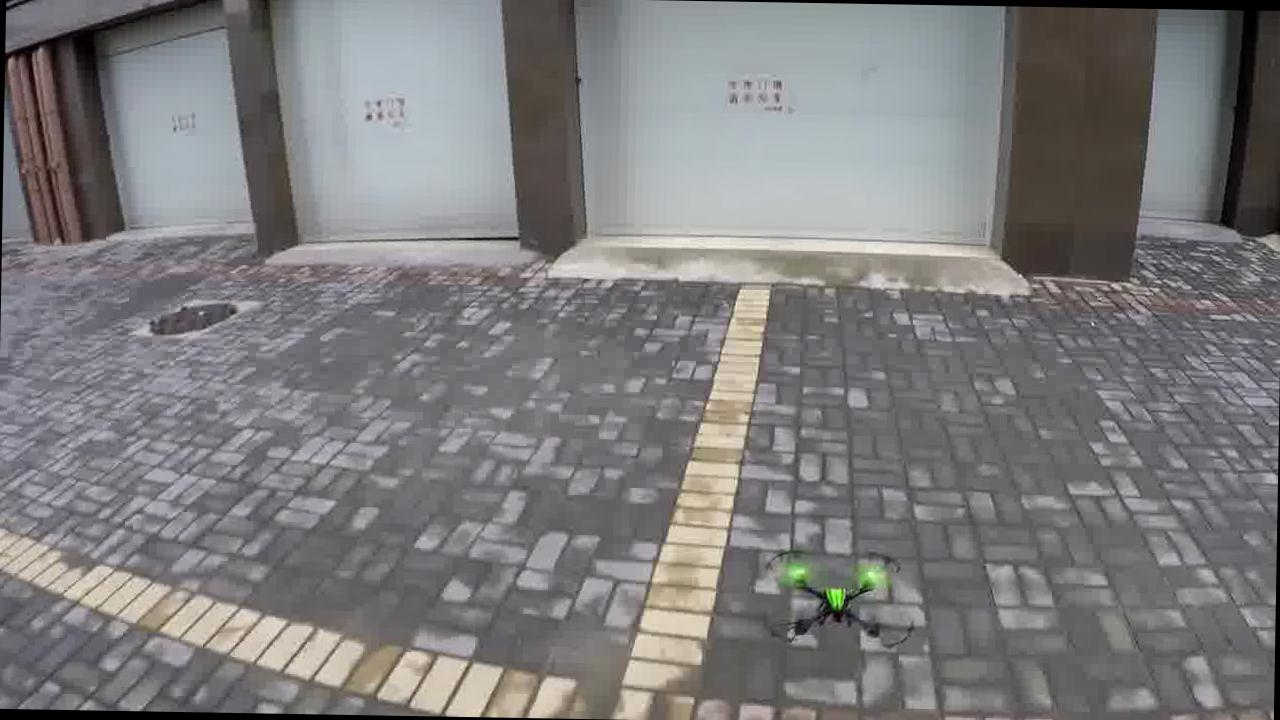drone: (746, 547, 926, 669)
